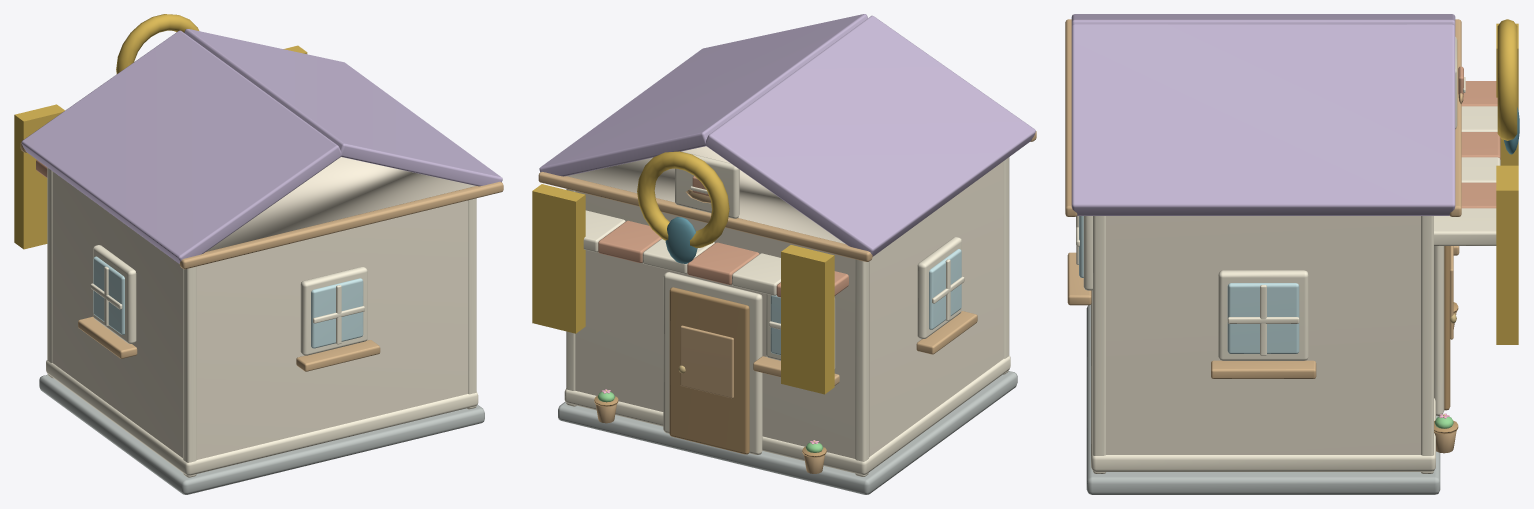
The model's file is accessories.glb.
3 renders of one model, left to right at view 1: azimuth 30°, elevation 25°; view 2: azimuth 150°, elevation 25°; view 3: azimuth 270°, elevation 25°, orthographic. The views are drawn at different scales.
Bounding box in the file's own units: 3.62 × 3.39 × 3.62.
